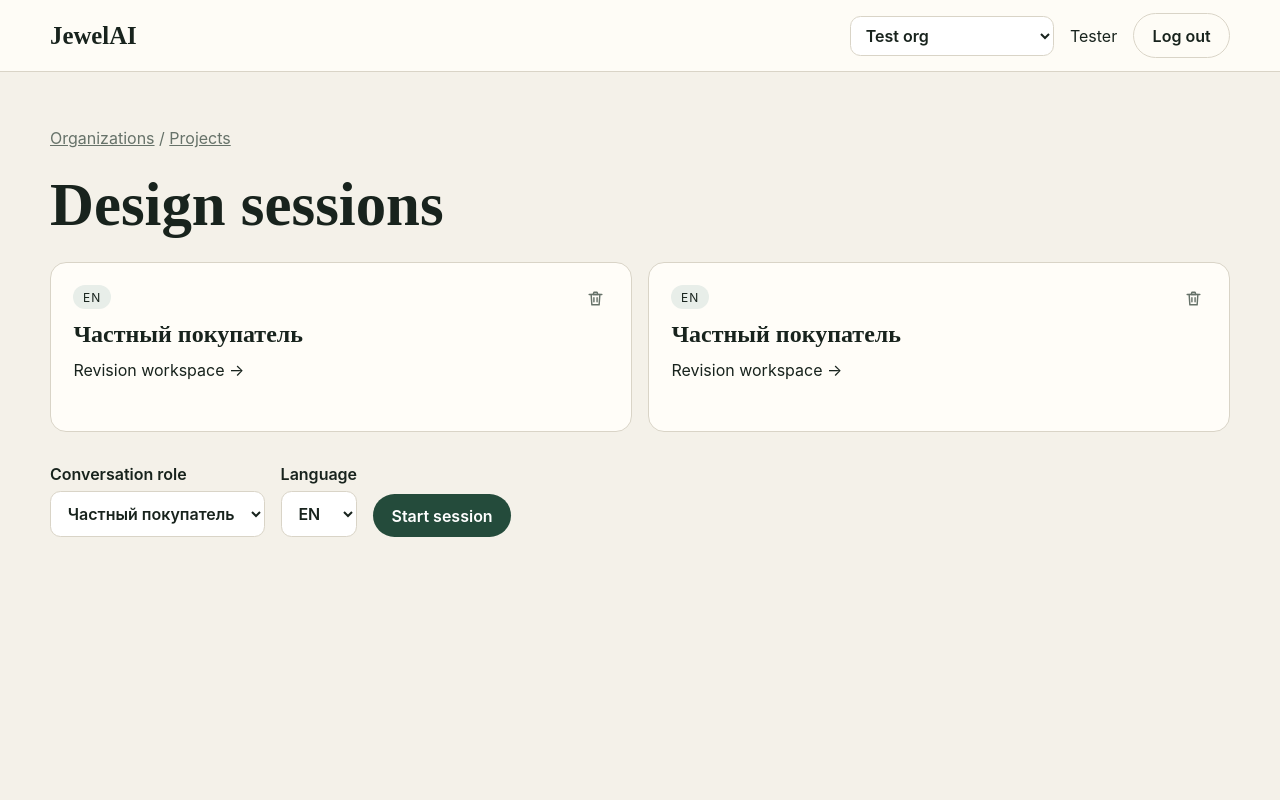
Test: design session deletion › keeps the consistent list and confirmation when generation prevents deletion
This screenshot has width=1280, height=800.
Step 1. Click the button named "Delete session session-one" → (595, 298), box [573, 276, 617, 320]
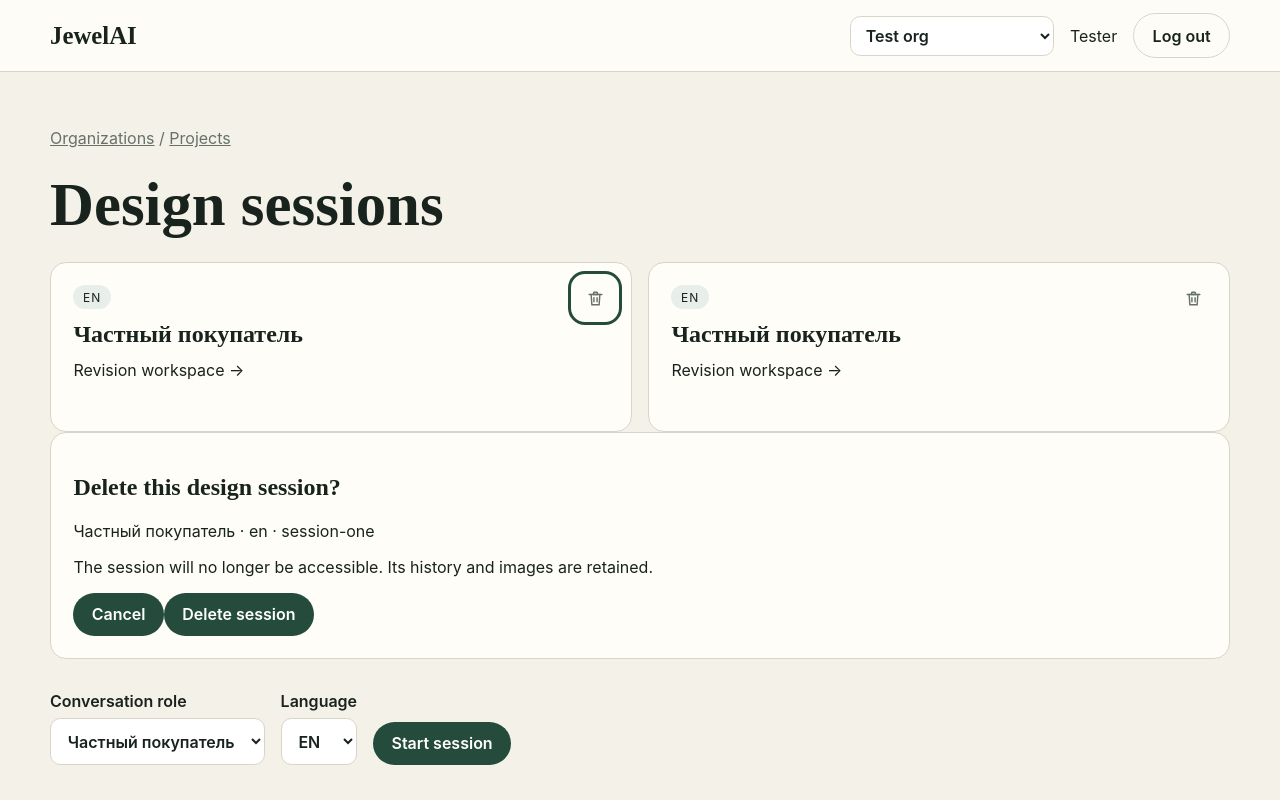
Step 2. Click the button "Delete session" → (239, 614), box [164, 593, 314, 636]
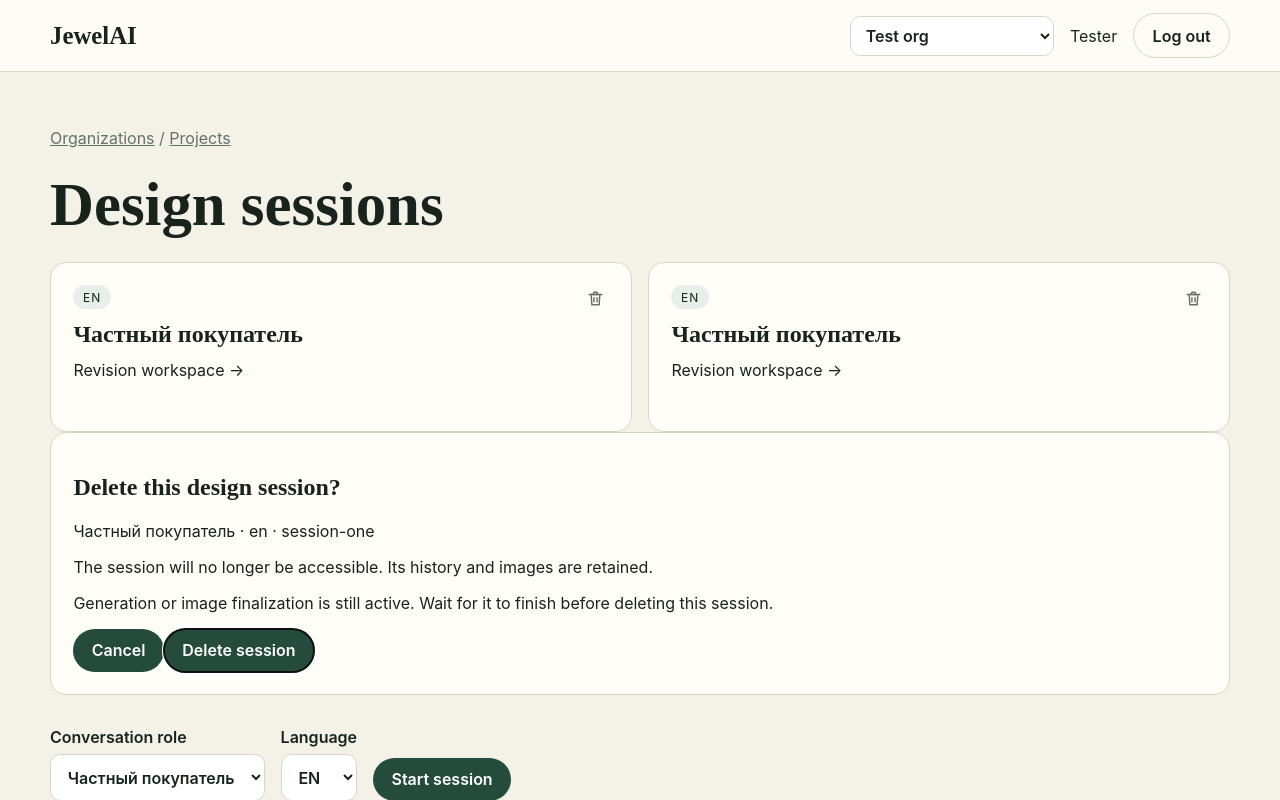
Check: the button named "Delete session session-one" is shown, box [573, 276, 617, 320]
Check: the message shows "still active", box [73, 593, 773, 613]
